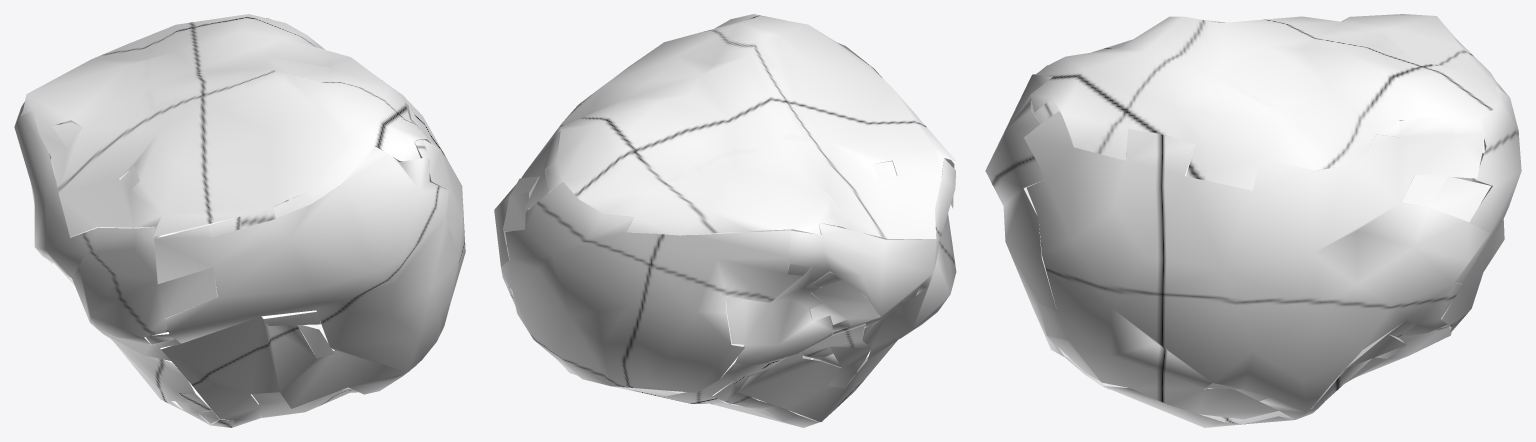
File: asteroide6.obj
3 views of the same model, side by side, from view 1: azimuth 30°, elevation 25°; view 2: azimuth 150°, elevation 25°; view 3: azimuth 270°, elevation 25° (orthographic). The views are drawn at different scales.
Parts seen in each view (by area): view 1: Asteroid_no_6_Material_#3_0; view 2: Asteroid_no_6_Material_#3_0; view 3: Asteroid_no_6_Material_#3_0.
Part boxes in pixels (x1,y1,x2,y2): Asteroid_no_6_Material_#3_0: (14, 14, 465, 427); Asteroid_no_6_Material_#3_0: (494, 14, 956, 427); Asteroid_no_6_Material_#3_0: (985, 14, 1521, 427).
Bounding box in the file's own units: 0.624 × 0.555 × 0.6924.
